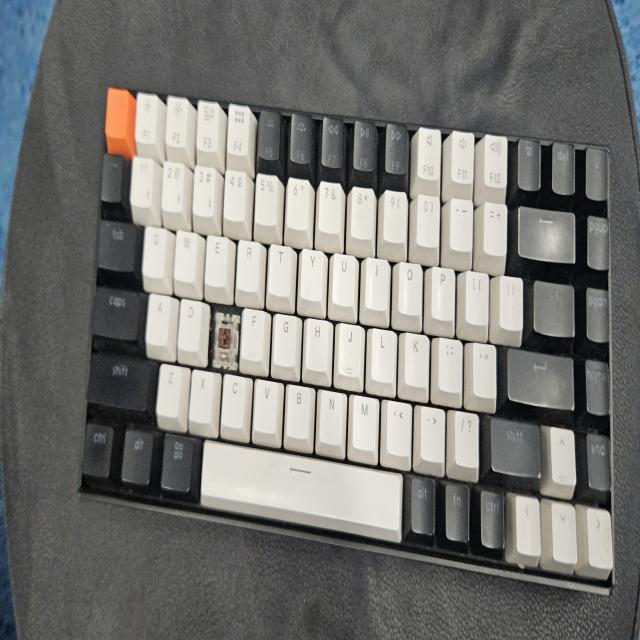C: (216, 315, 232, 365)
